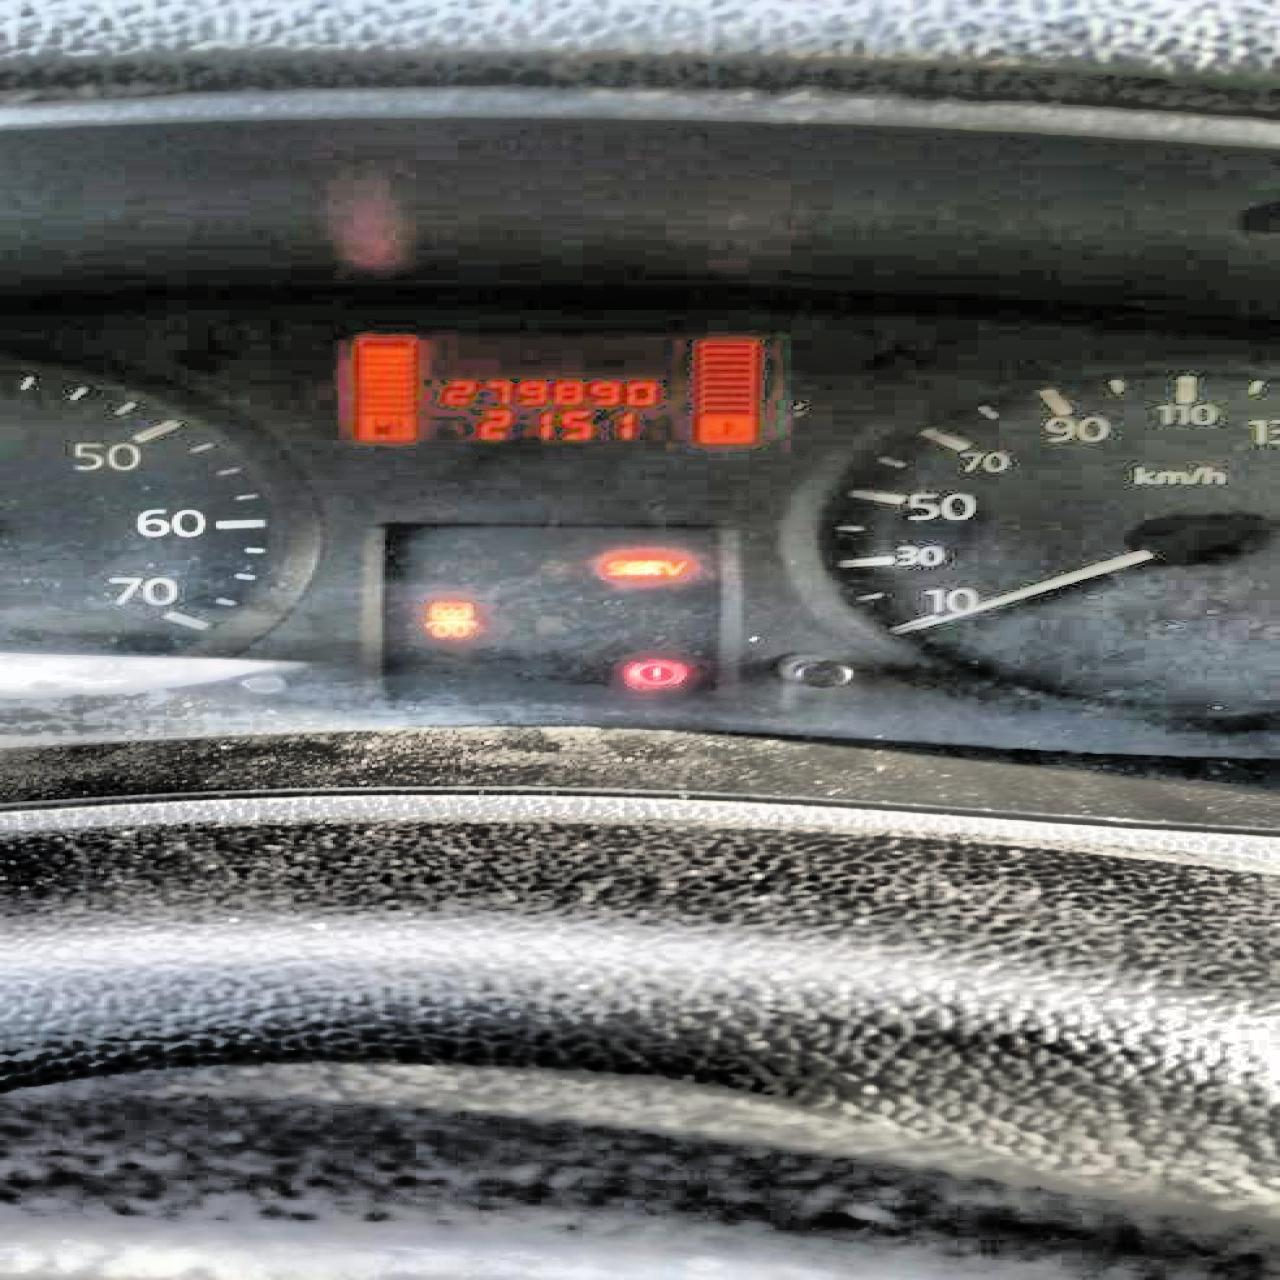0: (625, 381, 655, 406)
1: (617, 411, 634, 438), (536, 410, 549, 440)
2: (476, 409, 512, 437), (445, 379, 476, 406)
5: (557, 410, 598, 440)
7: (486, 377, 510, 403)
8: (551, 380, 583, 404)
9: (516, 379, 544, 403), (591, 380, 617, 406)
odometer: (325, 324, 791, 449)
